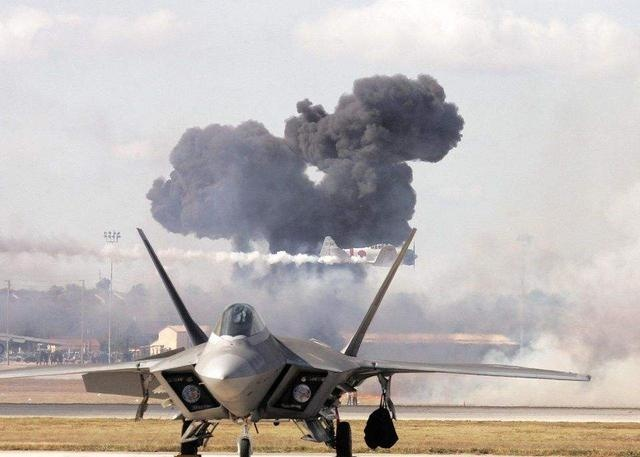airplane: (77, 224, 592, 453)
